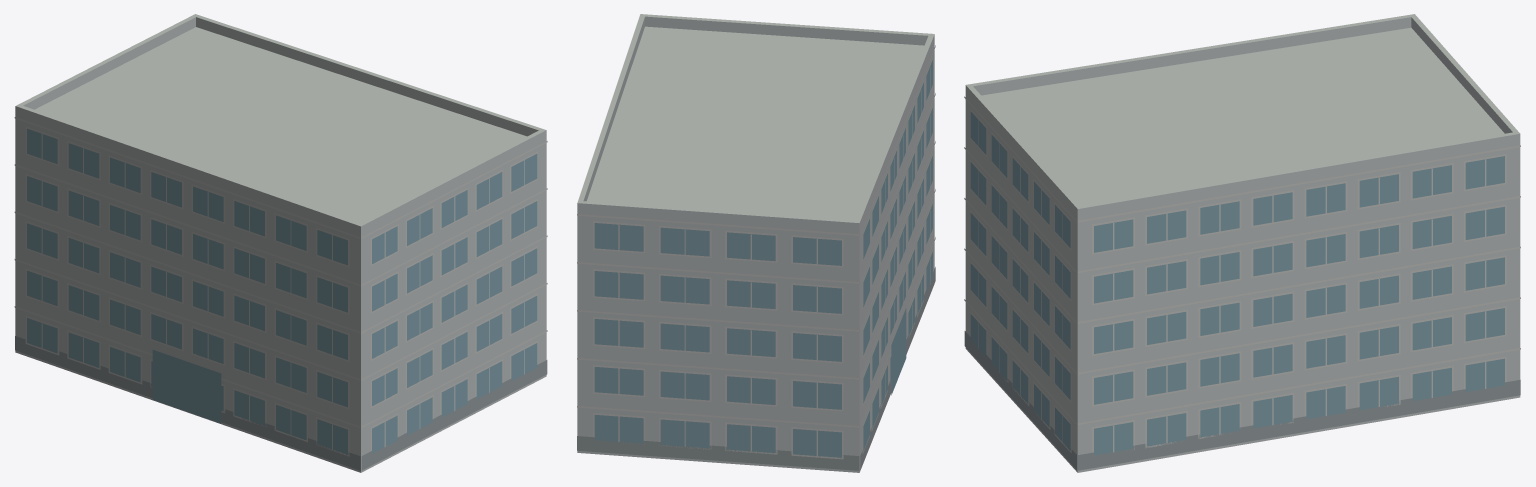
Rendered from public-8f07555d-3498-499c-bd57-e36feffb0d65.glb.
3 views of the same model, side by side, from view 1: azimuth 30°, elevation 25°; view 2: azimuth 150°, elevation 25°; view 3: azimuth 270°, elevation 25° (orthographic). The views are drawn at different scales.
Parts seen in each view (by area): view 1: public-8f07555d-3498-499c-bd57-e36feffb0d65; view 2: public-8f07555d-3498-499c-bd57-e36feffb0d65; view 3: public-8f07555d-3498-499c-bd57-e36feffb0d65.
Part boxes in pixels (x1,y1,x2,y2): public-8f07555d-3498-499c-bd57-e36feffb0d65: (14, 14, 547, 472); public-8f07555d-3498-499c-bd57-e36feffb0d65: (577, 14, 935, 472); public-8f07555d-3498-499c-bd57-e36feffb0d65: (964, 14, 1520, 472).
Bounding box in the file's own units: 24.33 × 15.25 × 29.2.
